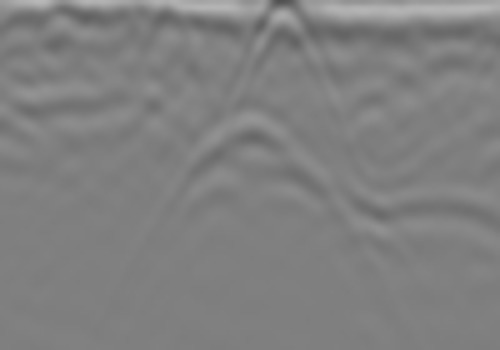hyperbola: (119, 112, 386, 323), (217, 1, 343, 108)
